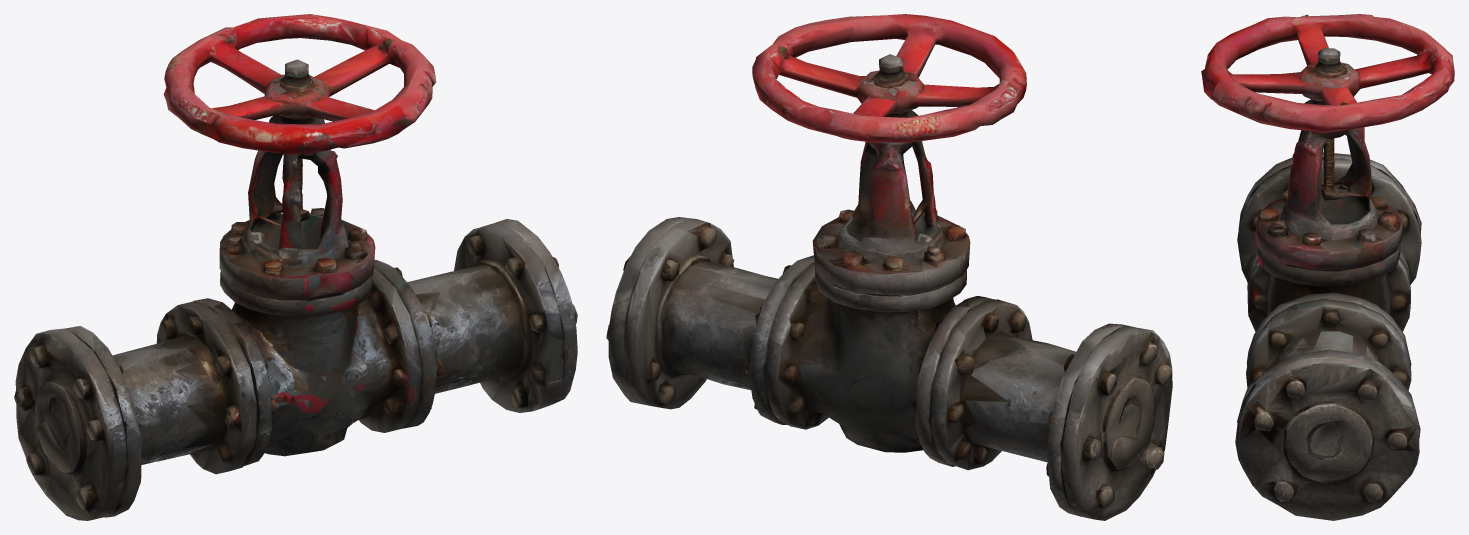
Rendered from industrial_valve_wheel_LOD1.fbx.
The picture shows the model from 3 angles, left to right: view 1: azimuth 30°, elevation 25°; view 2: azimuth 150°, elevation 25°; view 3: azimuth 270°, elevation 25°; orthographic projection. The views are drawn at different scales.
Parts seen in each view (by area): view 1: industrial_valve_wheel.001; view 2: industrial_valve_wheel.001; view 3: industrial_valve_wheel.001.
Boxes of the visible parts, bbox=[...] form: industrial_valve_wheel.001: bbox=[14, 14, 577, 520]; industrial_valve_wheel.001: bbox=[606, 14, 1172, 520]; industrial_valve_wheel.001: bbox=[1201, 14, 1454, 520].
Bounding box in the file's own units: 0.5612 × 0.4402 × 0.2739.
1 material, 1 textured.
